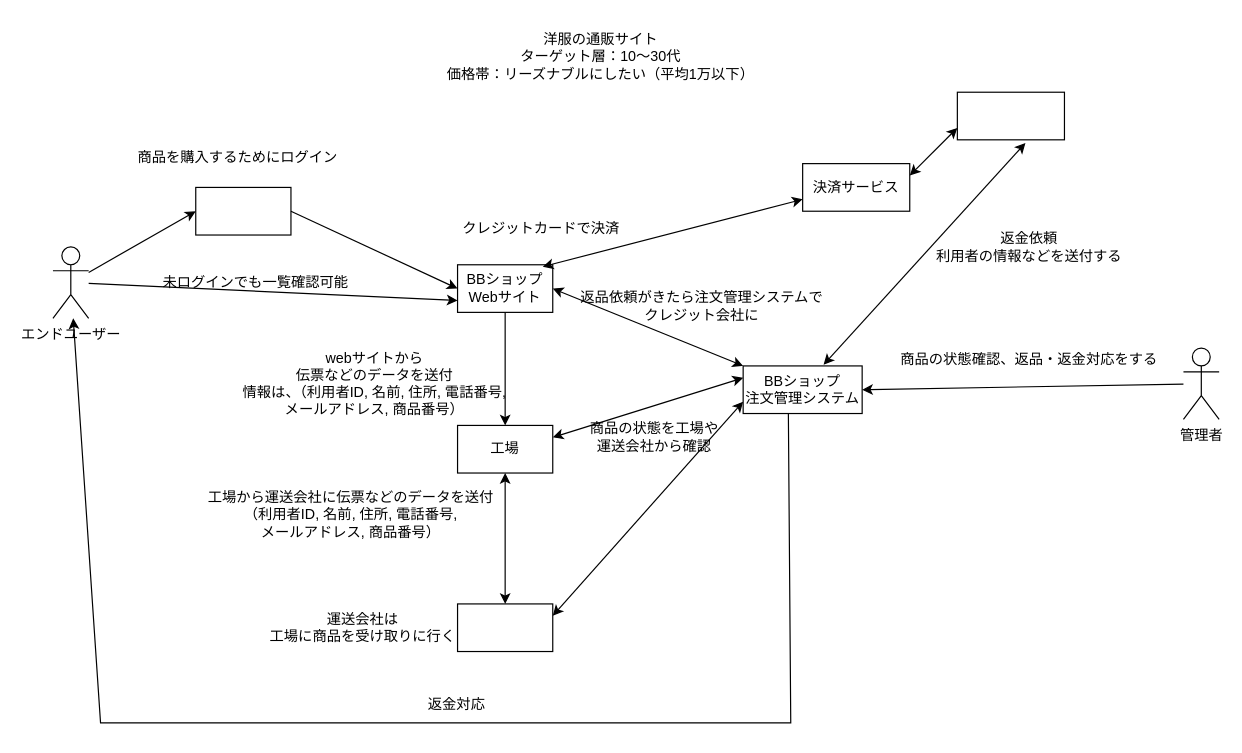
The diagram is 1242 pixels wide and 753 high, and some of its shapes have lost their labels. The centre of each missing label's shape, as x and y in pixels:
"クレジット会社" goes at [1010,115].
"ログイン" goes at [243,210].
"運送会社" goes at [504,627].
